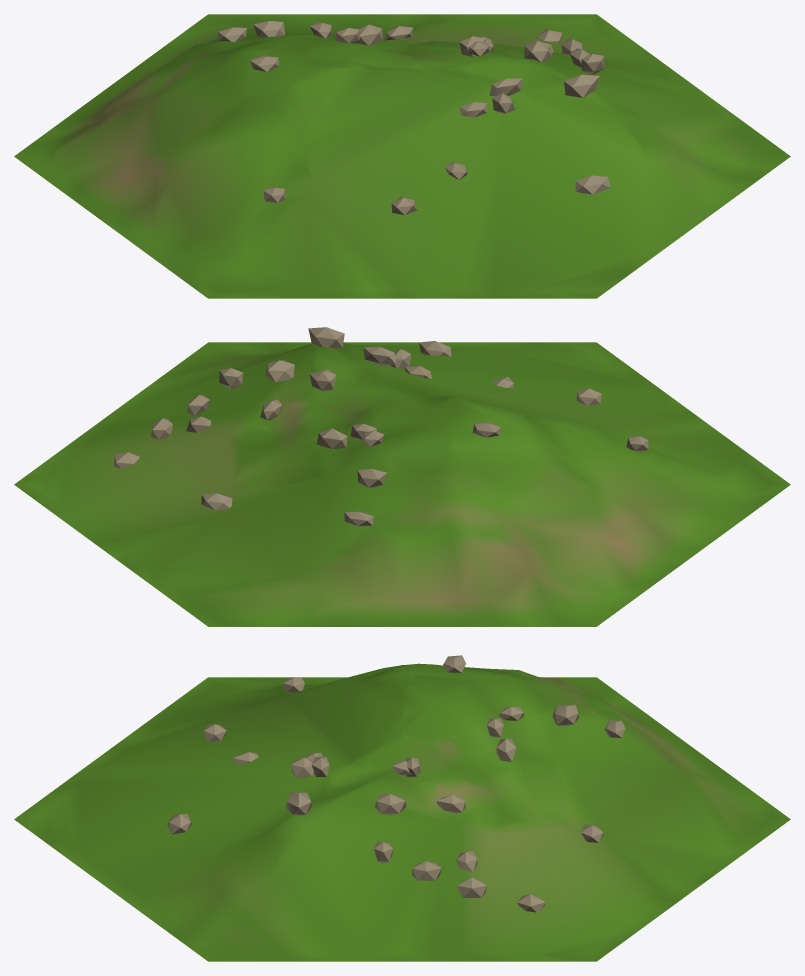
File: SM_Terreno_Colina_LOD2.fbx
3 renders of one model, top to bottom at view 1: azimuth 30°, elevation 25°; view 2: azimuth 150°, elevation 25°; view 3: azimuth 270°, elevation 25°, orthographic.
Visible parts, largest first — view 1: SM_Terreno_Colina_LOD2; view 2: SM_Terreno_Colina_LOD2; view 3: SM_Terreno_Colina_LOD2.
Boxes of the visible parts, left/top/right/bottom form: SM_Terreno_Colina_LOD2: left=14, top=14, right=790, bottom=298; SM_Terreno_Colina_LOD2: left=14, top=327, right=790, bottom=626; SM_Terreno_Colina_LOD2: left=14, top=655, right=790, bottom=961.
Size of the model in its own units: 173 by 30.52 by 200.
